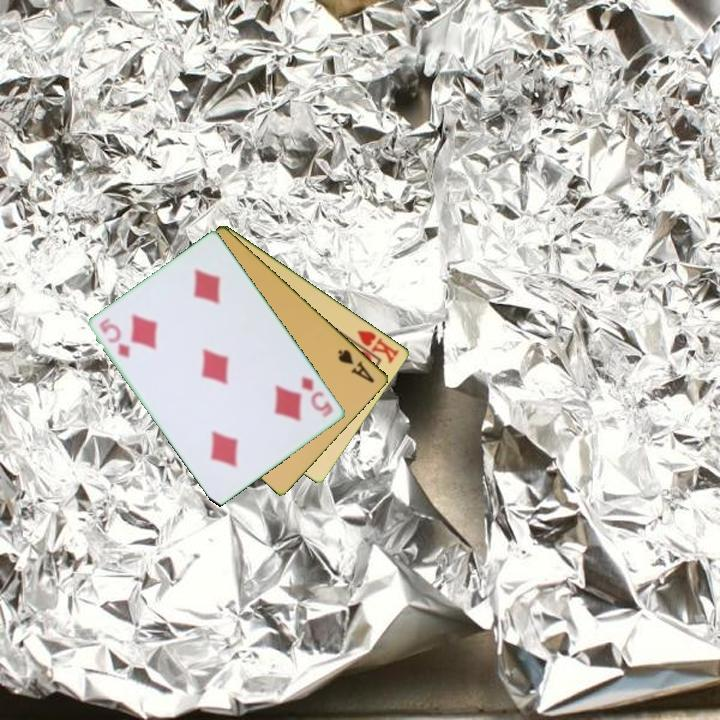5d: (298, 372, 336, 421), (101, 320, 133, 361)
As: (334, 346, 378, 386)
Kh: (346, 326, 403, 366)
